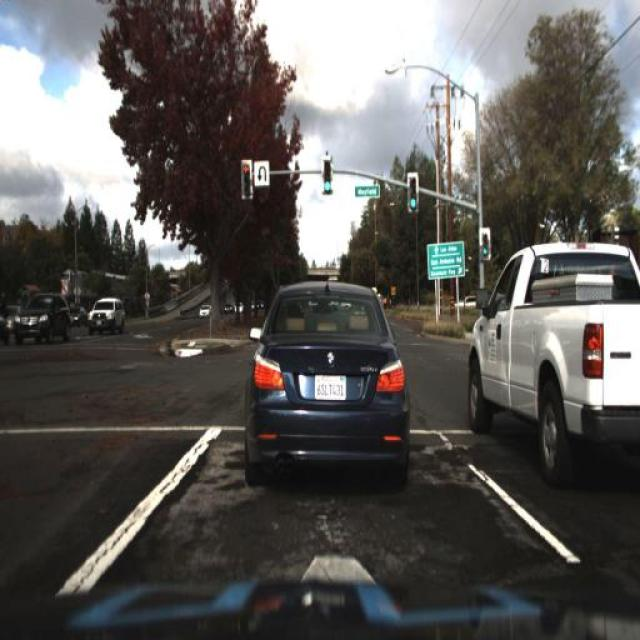car: (467, 233, 637, 482), (242, 276, 413, 484), (11, 294, 68, 350), (85, 294, 127, 336), (193, 298, 214, 326), (68, 308, 88, 328)
trafficLight-GreenLeft: (405, 169, 423, 217), (318, 154, 336, 198), (478, 224, 493, 268)
trafficLight-Yellow: (234, 157, 250, 209)
